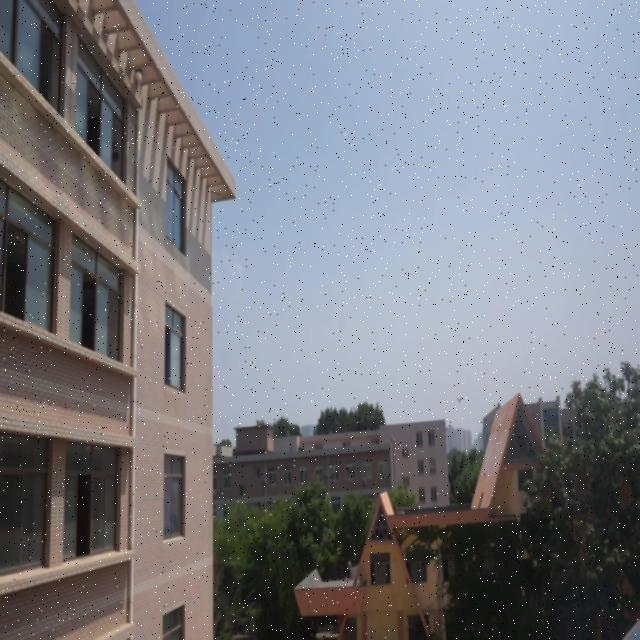UAV: (456, 397, 462, 403)
